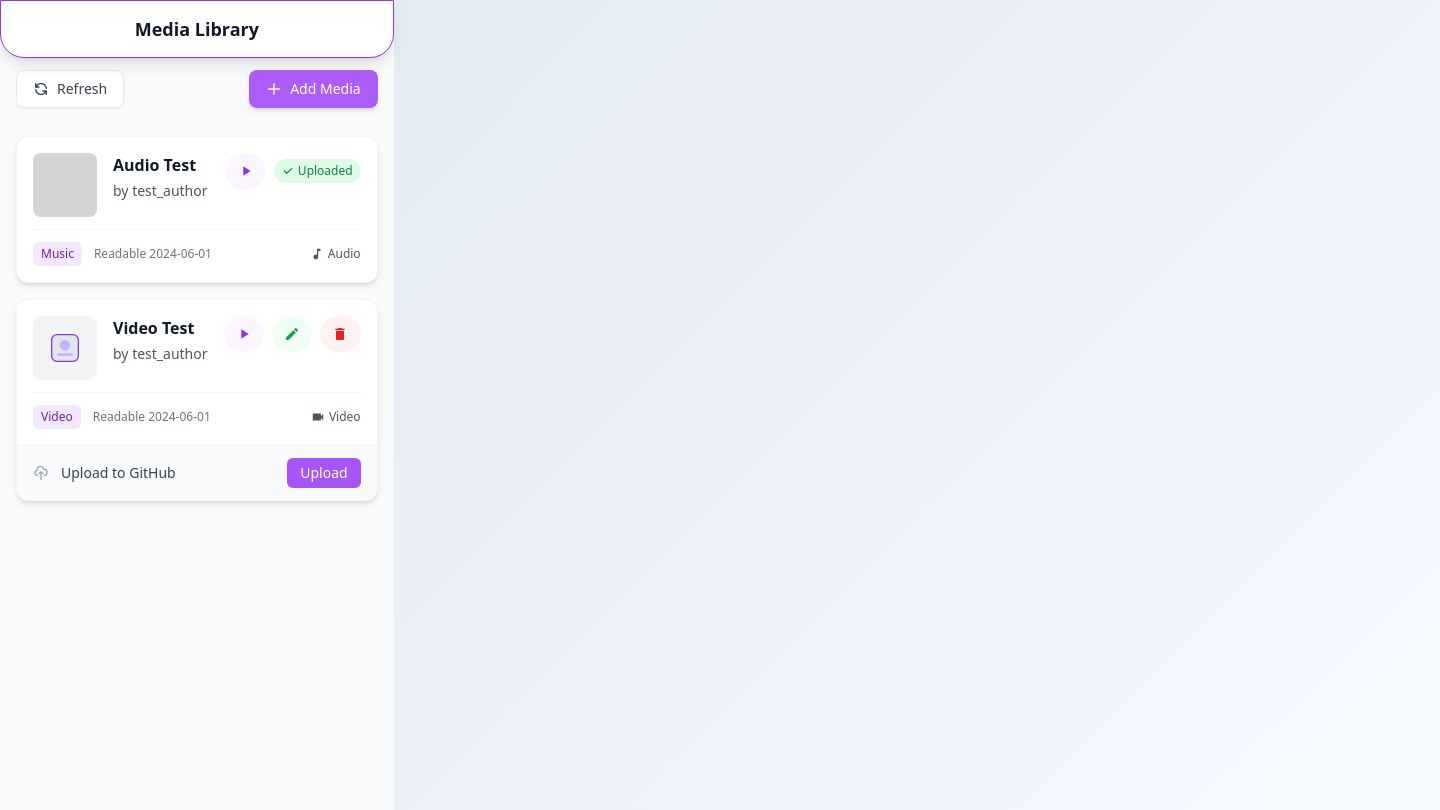
Scenario: FileList › handles preview button click
Click the button titled "Preview" next to "Uploaded" at (246, 171), box [226,153,266,189]
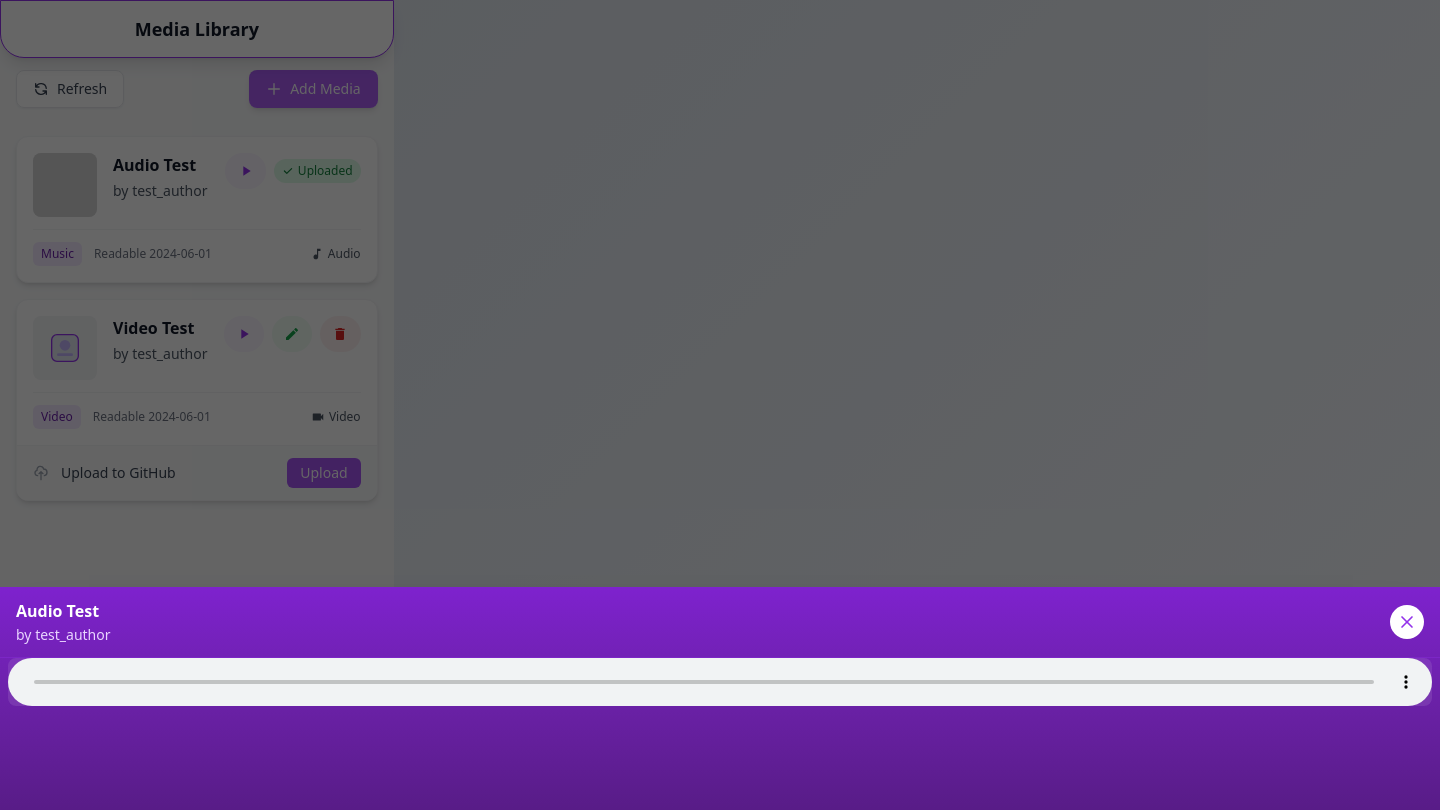
Expected: the number of headings "Audio Test" is 2, [113,153,210,177]; [16,600,99,622]
